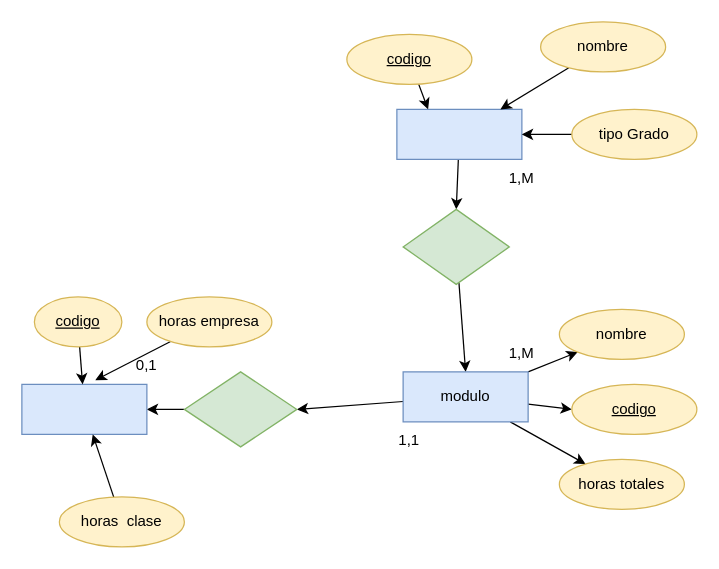
Image size: 719x569. Some labels were removed from this diagram. Here are the shapes that lost their labels. From the top down, the centre of each, then its label:
At point 459,133: "ciclos".
At point 455,246: "tienen".
At point 84,408: "dual".
At point 240,409: "se pueden dar".
